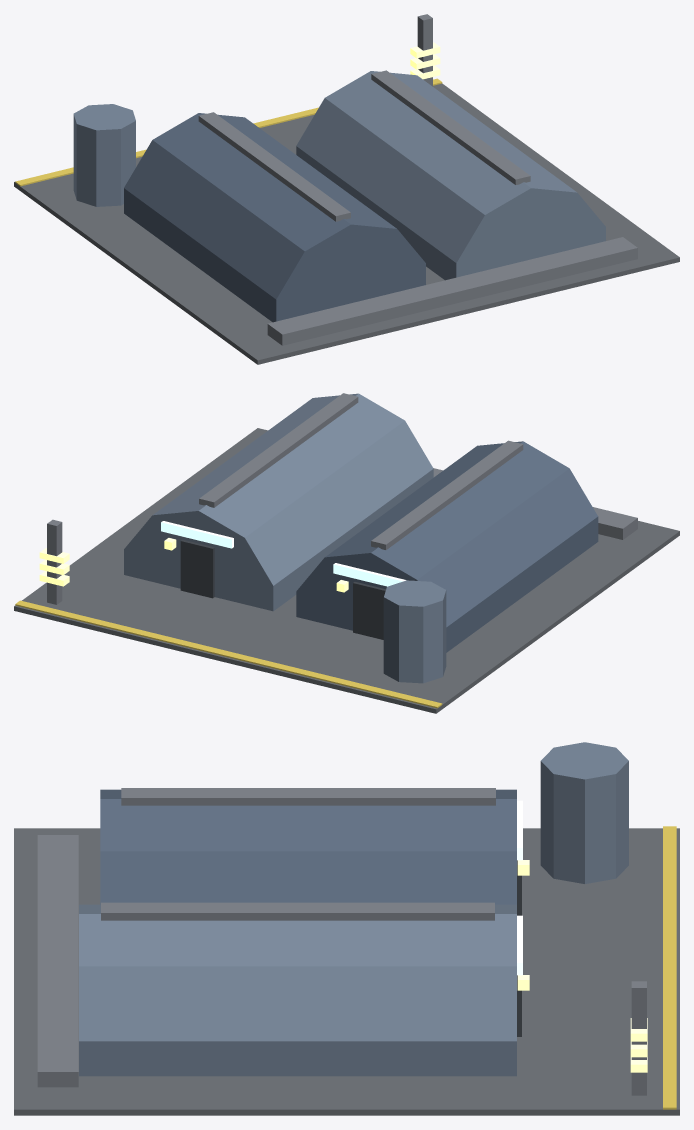
The model's file is zone_low_3_t3.glb.
The picture shows the model from 3 angles, top to bottom: view 1: azimuth 30°, elevation 25°; view 2: azimuth 150°, elevation 25°; view 3: azimuth 270°, elevation 25°; orthographic projection. The views are drawn at different scales.
Parts seen in each view (by area): view 1: zone_low_3_t3, detail; view 2: zone_low_3_t3, detail; view 3: zone_low_3_t3, detail.
Boxes of the visible parts, x1,y1,x2,y2 form: zone_low_3_t3: [14, 70, 679, 364]; detail: [15, 14, 442, 186]; zone_low_3_t3: [14, 393, 679, 713]; detail: [15, 519, 442, 708]; zone_low_3_t3: [14, 742, 679, 1115]; detail: [517, 826, 676, 1109].
Bounding box in the file's own units: 19.6 × 4.05 × 19.6.
